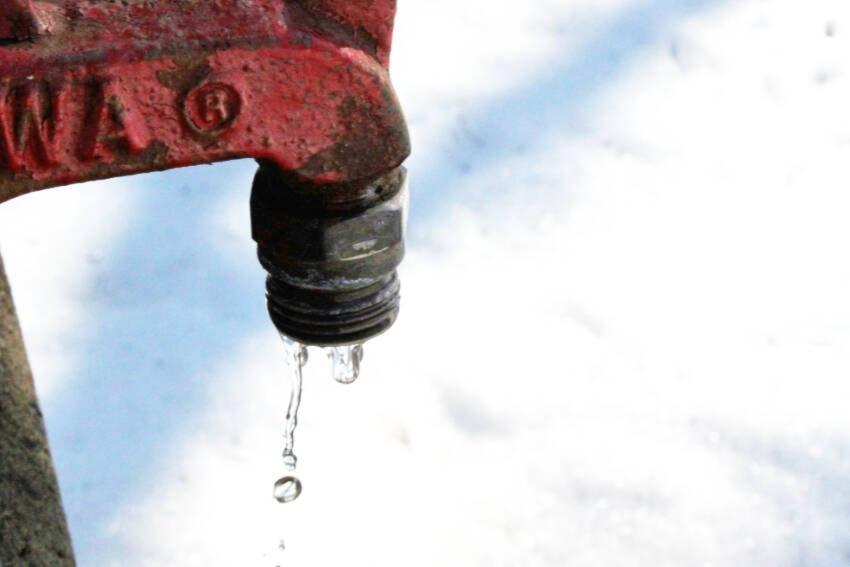water drop: (278, 332, 308, 468), (324, 341, 366, 386), (272, 474, 302, 502)
